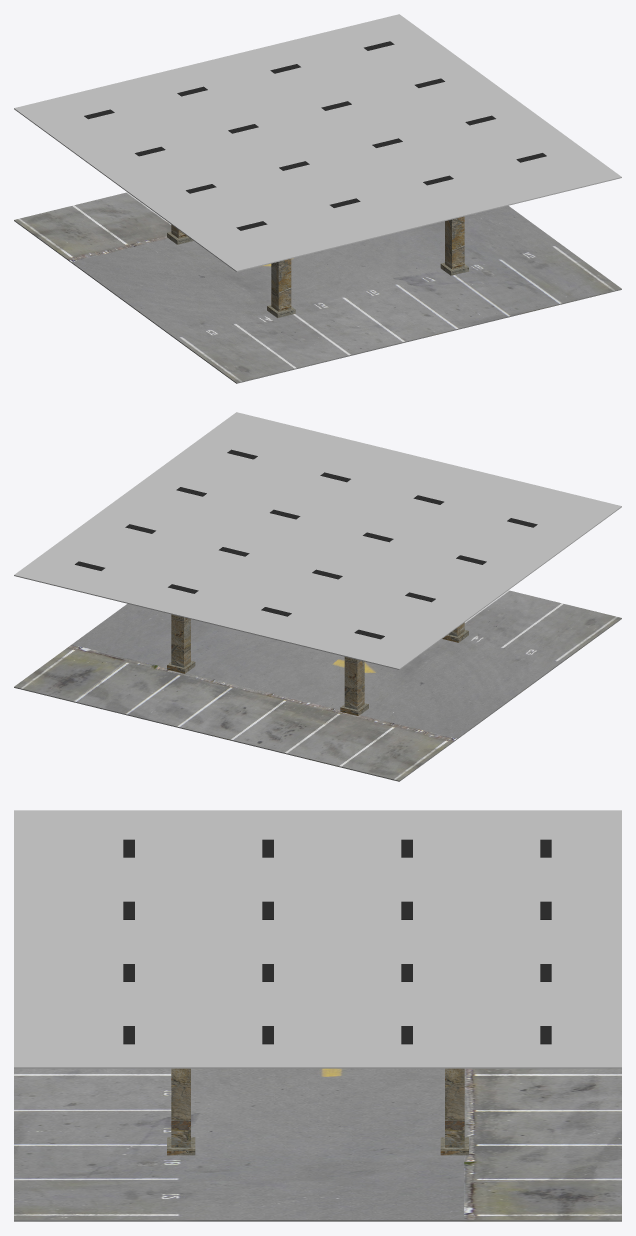
File: Parking Garage3.obj
The picture shows the model from 3 angles, top to bottom: view 1: azimuth 30°, elevation 25°; view 2: azimuth 150°, elevation 25°; view 3: azimuth 270°, elevation 25°; orthographic projection. The views are drawn at different scales.
Visible parts, largest first — view 1: Cube.005, Cube, Cube.006, Cube.004, Cube.003; view 2: Cube.005, Cube, Cube.006, Cube.002, Cube.001; view 3: Cube.005, Cube, Cube.006, Cube.001, Cube.003.
Boxes of the visible parts, x1,y1,x2,y2 form: Cube.005: (14,14,621,271); Cube: (14,192,621,383); Cube.006: (84,41,546,230); Cube.004: (267,259,295,317); Cube.003: (440,216,468,275); Cube.005: (14,412,621,669); Cube: (14,590,621,781); Cube.006: (75,449,537,639); Cube.002: (340,657,368,715); Cube.001: (167,614,195,673); Cube.005: (14,810,621,1068); Cube: (14,1068,621,1221); Cube.006: (123,839,551,1044); Cube.001: (440,1068,468,1155); Cube.003: (167,1068,195,1155).
Size of the model in its own units: 200 by 56.06 by 200.
